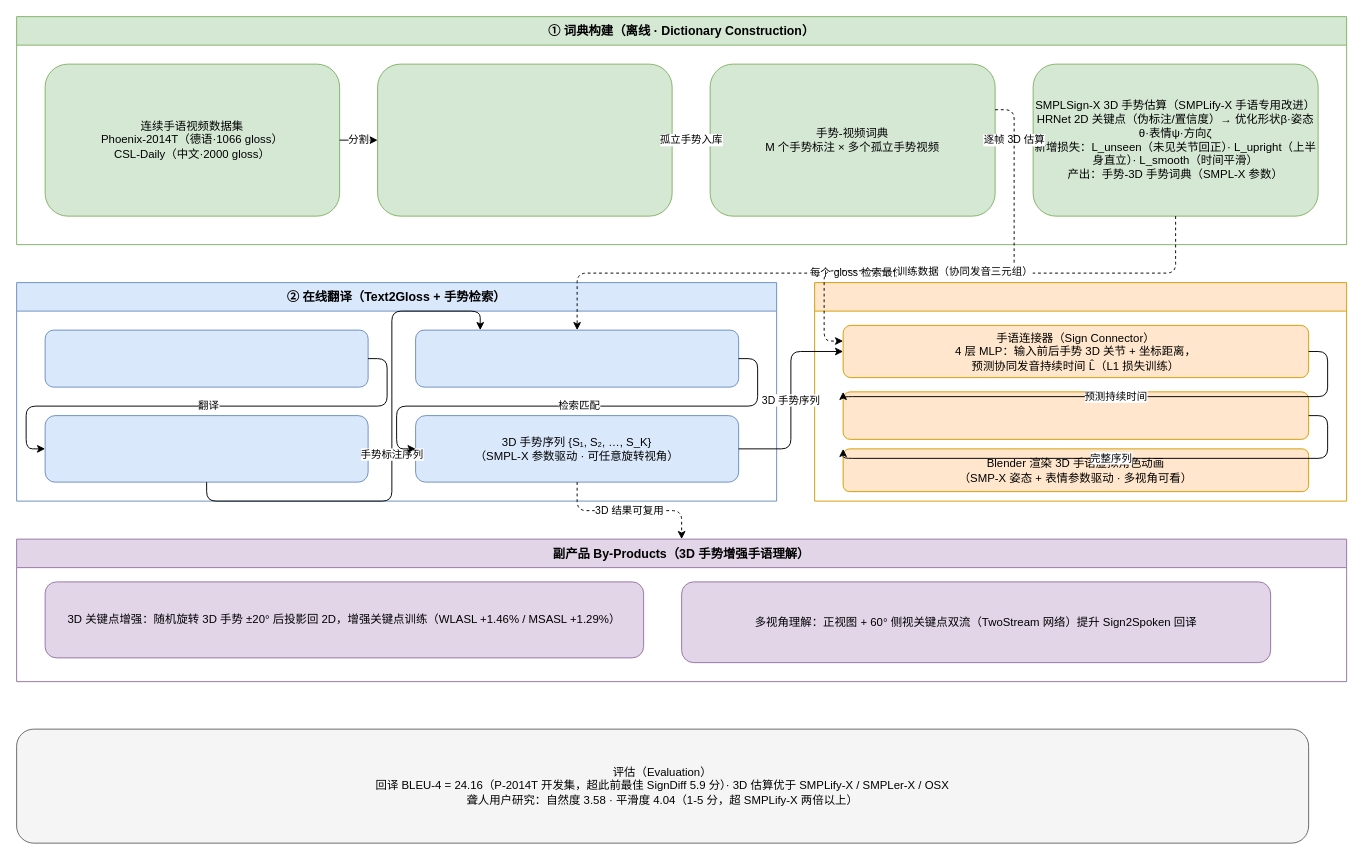
This 1363x860 diagram has some shape labels left out. Here are the shapes that lost their labels. From the top down, the box of each, then its label:
(377, 63, 672, 216): TwoStream-SLR 手语分割器 （CSLR 模型 · CTC 损失 + DTW 最优对齐 · 分割孤立手势 / 生成协同发音过渡）
(44, 329, 368, 387): 输入文本（口语） 例：“风很大”
(415, 329, 739, 387): 手势检索（Sign Retrieval） 训练 ISLR 模型，从词典中为每个 gloss 选出置信度最高的 3D 手势
(814, 282, 1347, 501): ③ 连接与渲染（手语连接器 → 3D 虚拟角色）
(842, 391, 1309, 439): 参数空间插值生成协同发音 C（过渡动作， 拼成含过渡的完整序列 {S1, C1², S2, …}）
(44, 415, 368, 482): mBART Text2Gloss 翻译器 文本 → 手势标注序列（gloss sequence） 例：Wind / Strong / Blow
